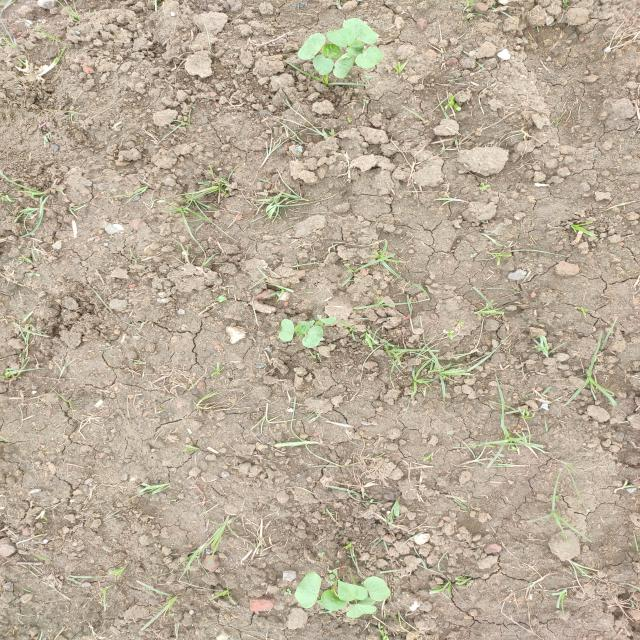seedling_s4: (295, 571, 321, 608), (342, 18, 378, 44), (298, 33, 325, 60), (363, 576, 391, 601), (337, 580, 368, 601), (356, 46, 383, 69), (326, 28, 356, 48), (319, 590, 347, 611), (333, 53, 354, 78), (302, 326, 324, 348), (312, 54, 334, 75), (347, 604, 377, 618), (279, 319, 294, 342), (346, 40, 364, 56), (322, 44, 341, 58), (295, 321, 314, 334), (318, 314, 336, 325), (358, 598, 375, 605)
